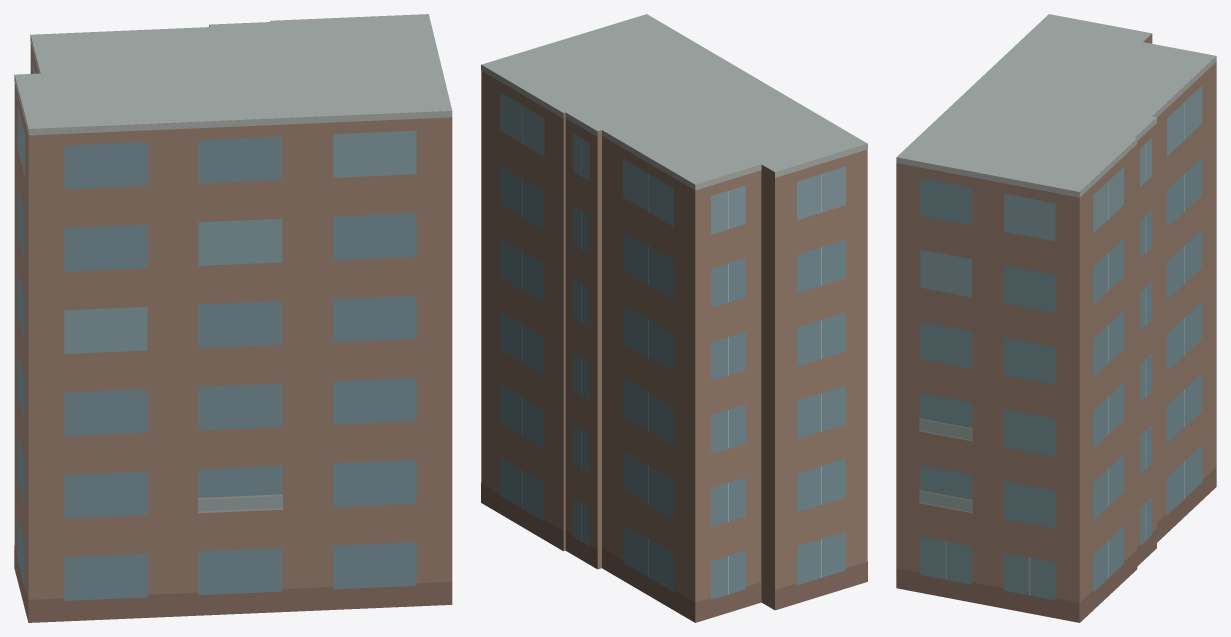
The model's file is survey-upis-32882980.glb.
3 renders of one model, left to right at view 1: azimuth 30°, elevation 25°; view 2: azimuth 150°, elevation 25°; view 3: azimuth 270°, elevation 25°, orthographic. The views are drawn at different scales.
Visible parts, largest first — view 1: survey-upis-32882980.tmp; view 2: survey-upis-32882980.tmp; view 3: survey-upis-32882980.tmp.
Part boxes in pixels (box(x1,y1,x2,y2)): survey-upis-32882980.tmp: box(14, 14, 452, 622); survey-upis-32882980.tmp: box(481, 14, 867, 622); survey-upis-32882980.tmp: box(896, 14, 1216, 622).
Bounding box in the file's own units: 16.4 × 18.5 × 12.47.
